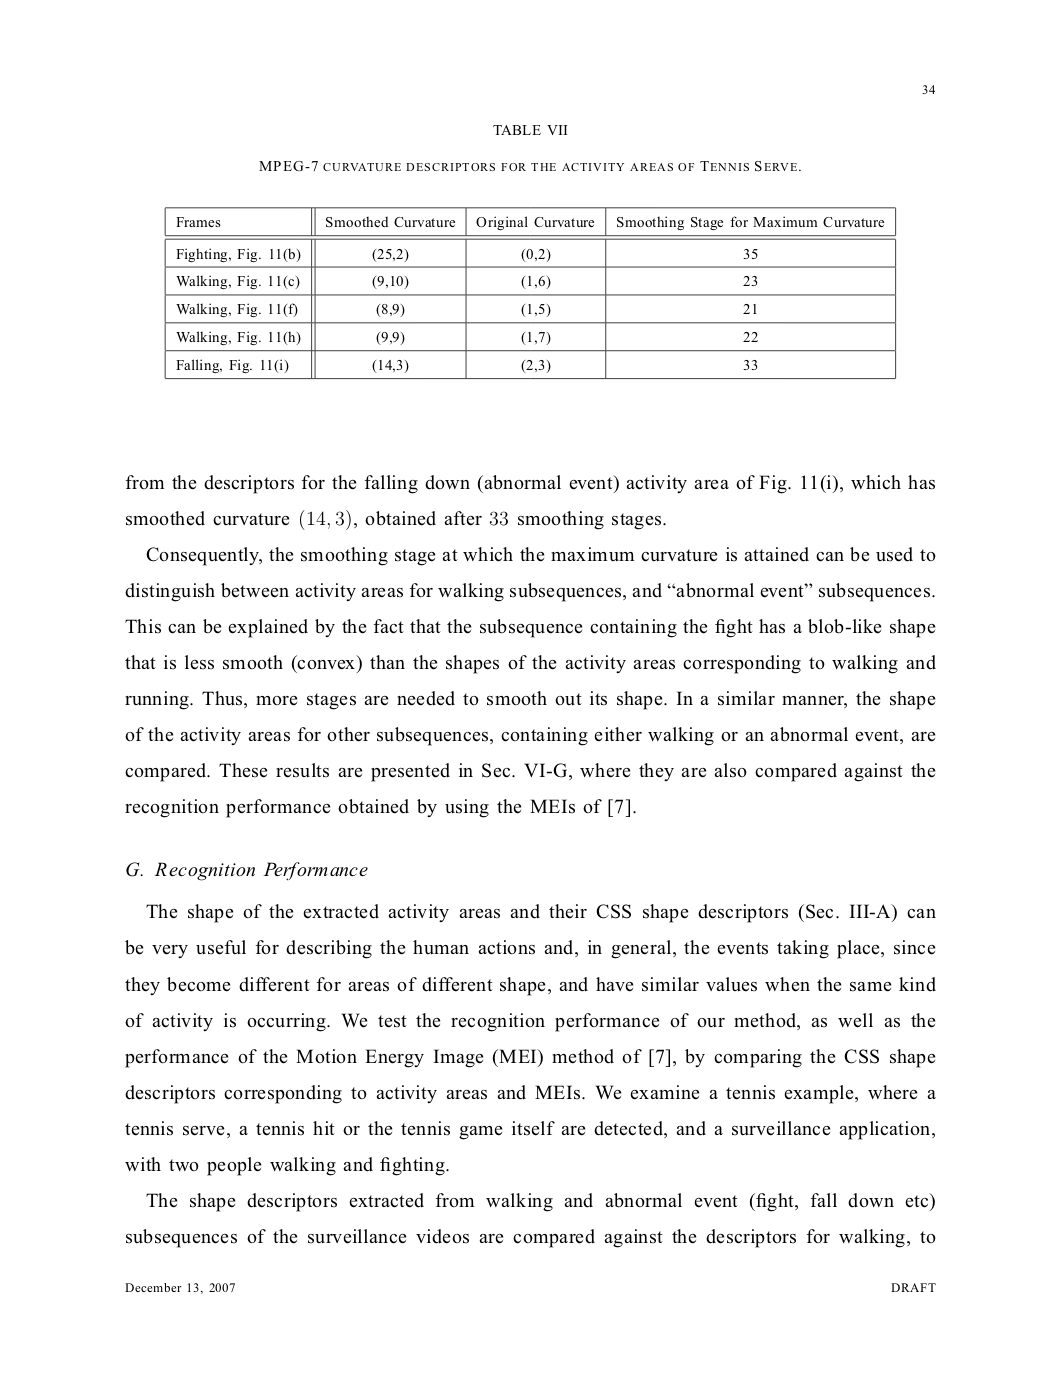Table: (164, 205, 896, 380)
